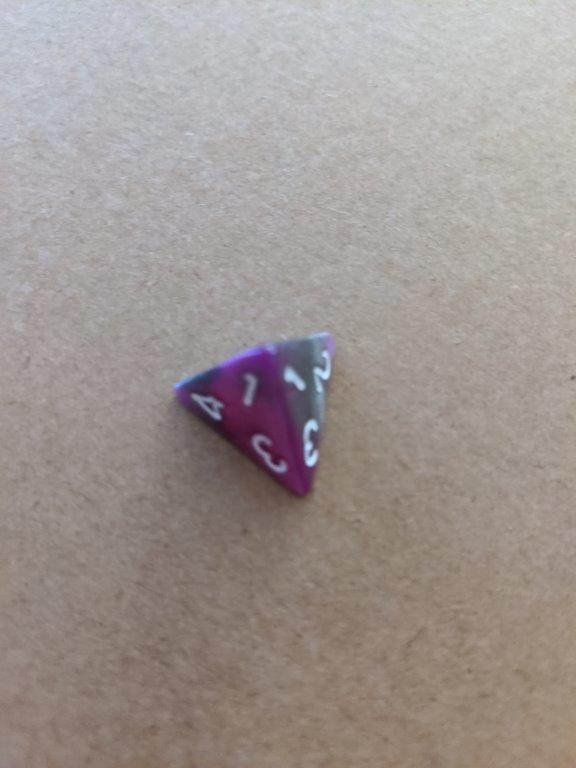d4-1: (161, 326, 336, 496)
